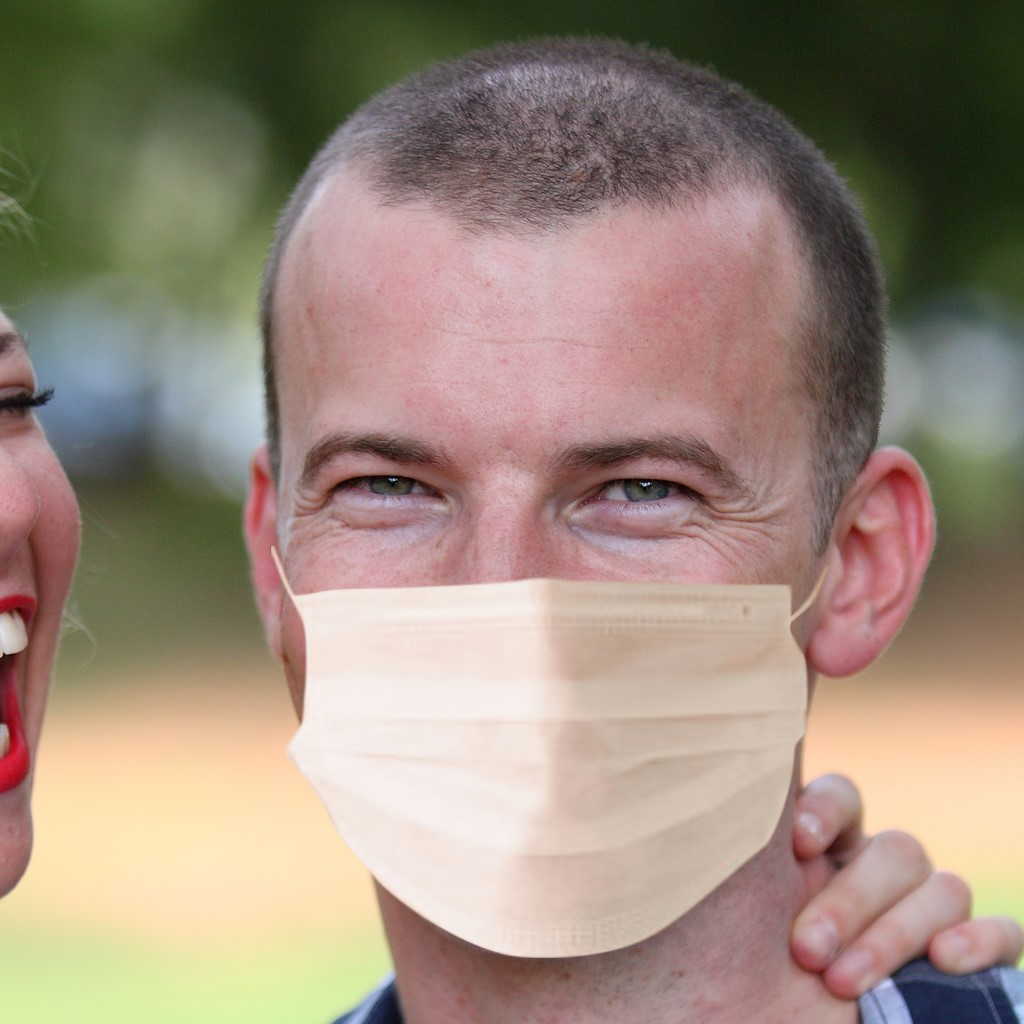con_mascara: (236, 70, 883, 964)
